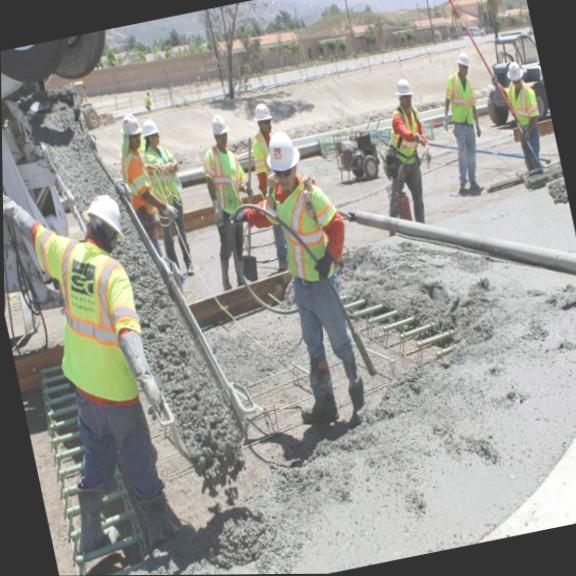safety_vest: (29, 232, 159, 418), (254, 177, 345, 298), (198, 143, 251, 229), (381, 101, 432, 174), (142, 141, 186, 210), (436, 63, 478, 132), (501, 76, 544, 140), (248, 127, 278, 177)
